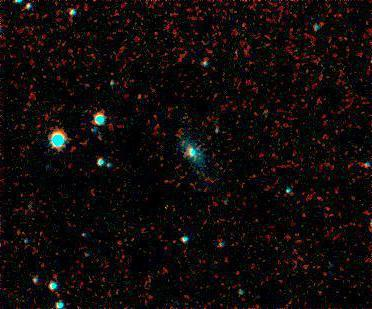star: (126, 81, 156, 111)
